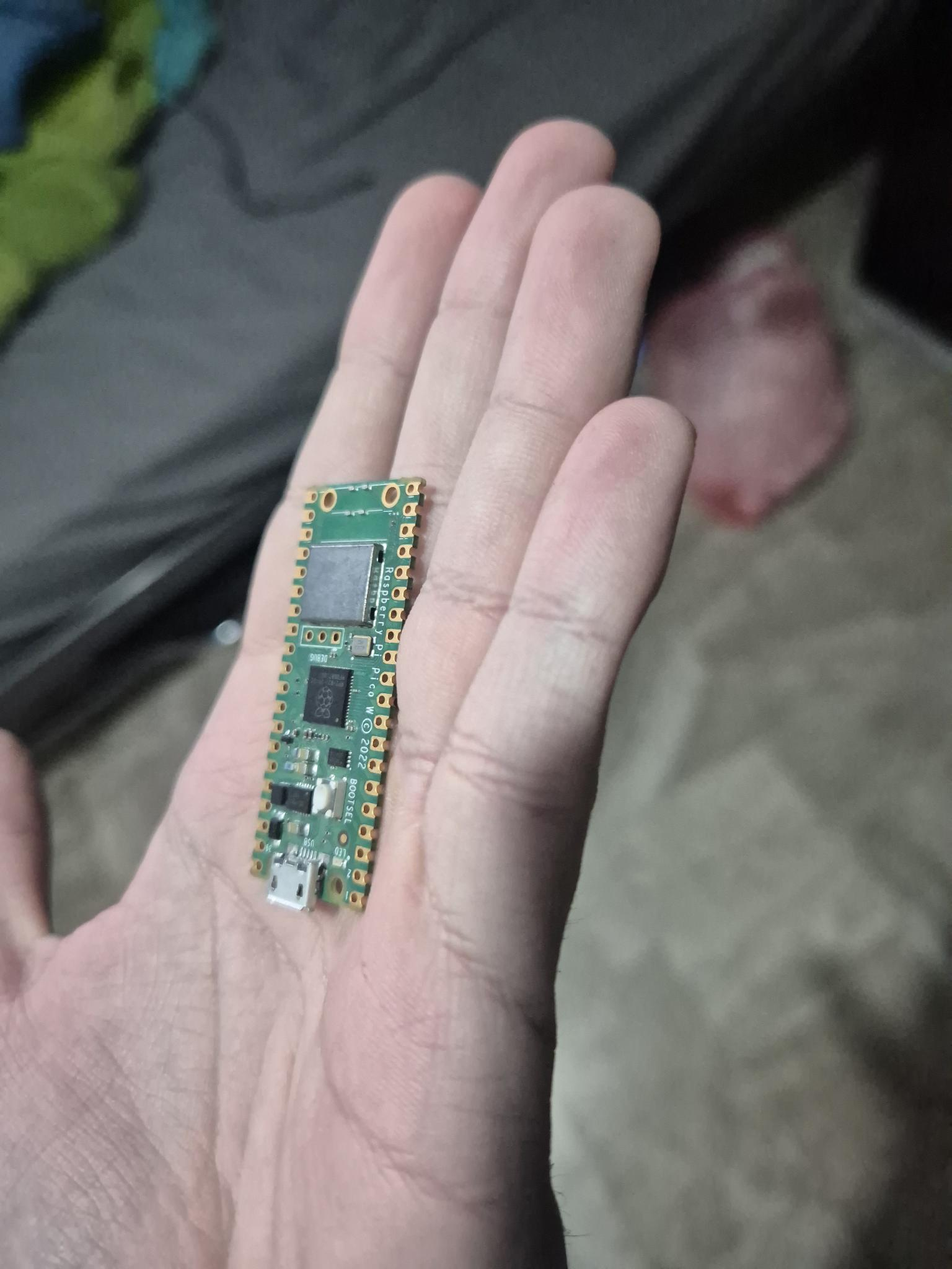raspberry-pi-pico-w: (252, 477, 425, 910)
